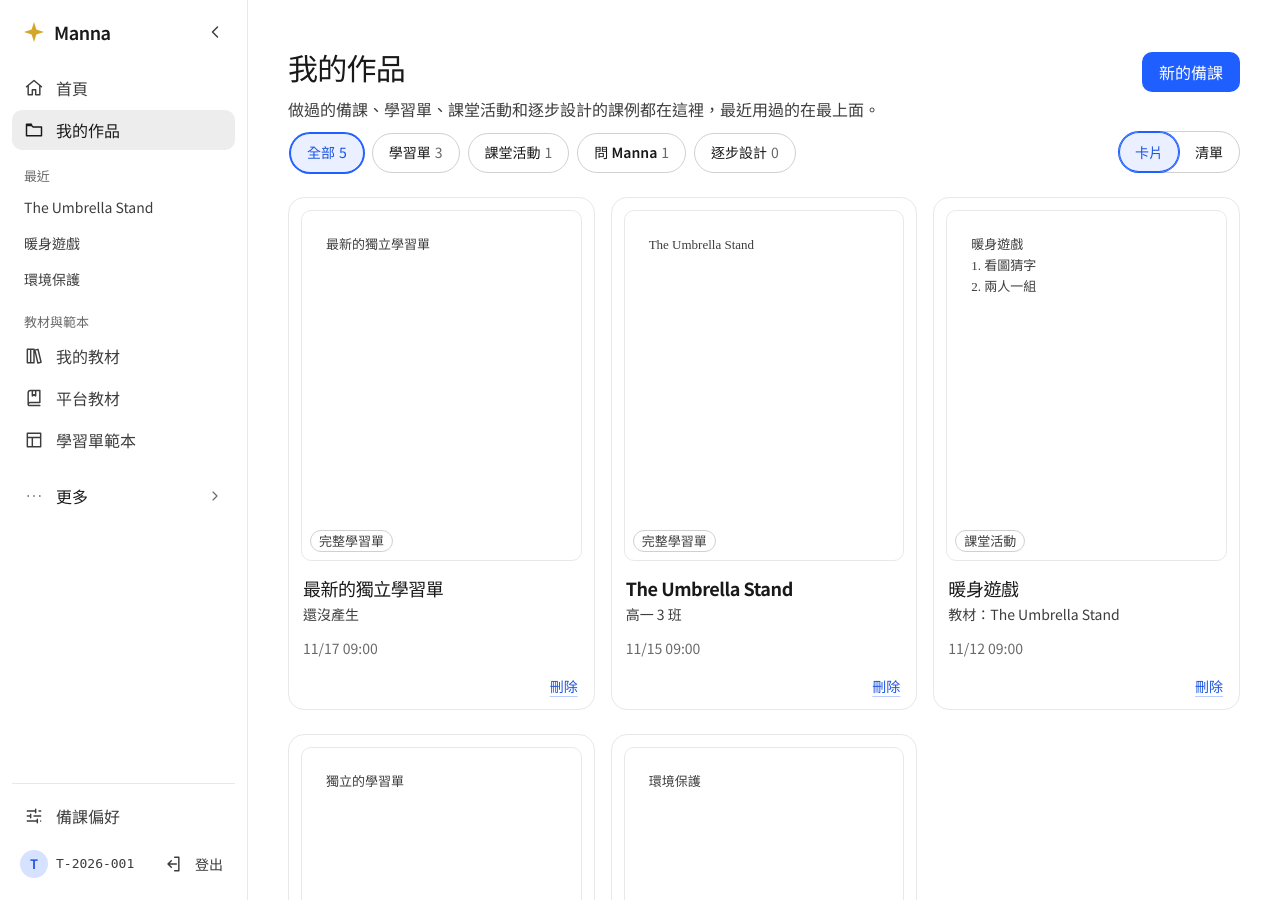
Test: 我的作品 › still works when the browser will not keep the choice
What coordinates should you click on to do the following:
click the button "清單"
I would click on:
 (1209, 152)
Its box is [1179,132,1239,172].
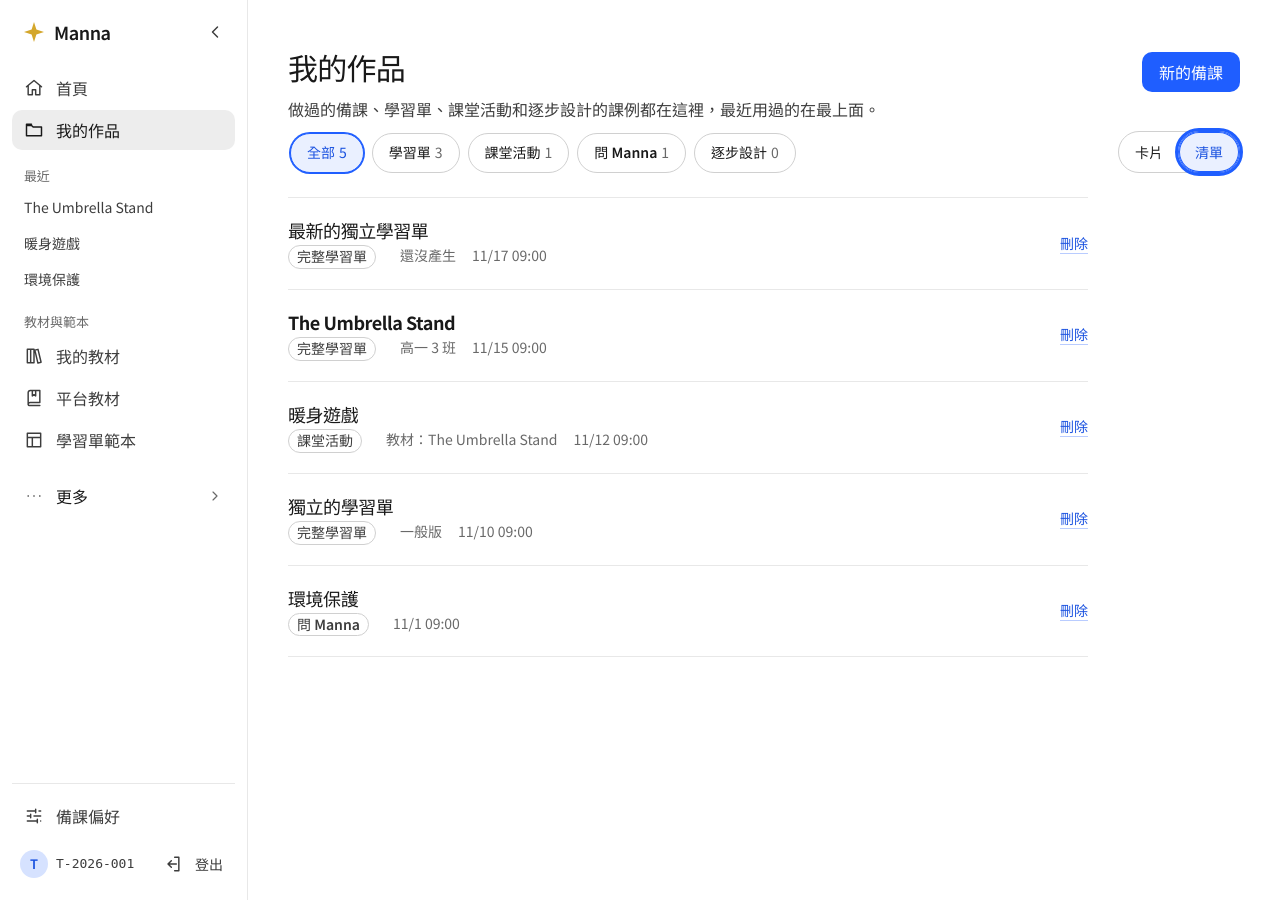
Expected: the list with class "rows" is shown, [288,197,1088,657]
